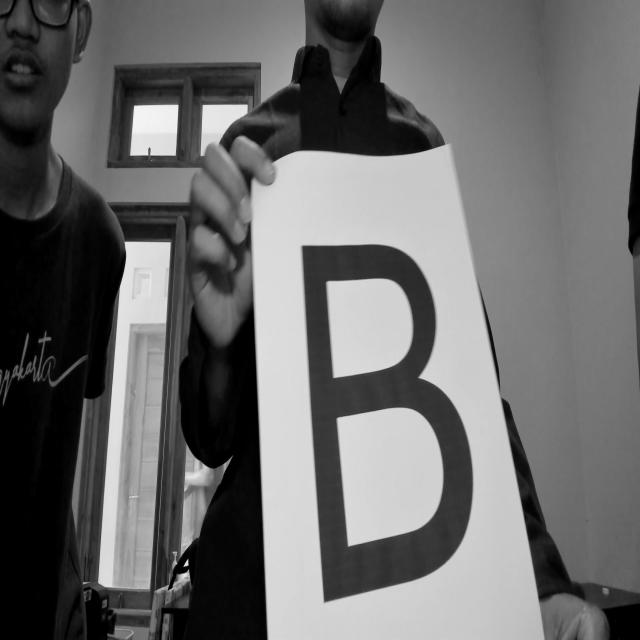b: (292, 224, 478, 617)
